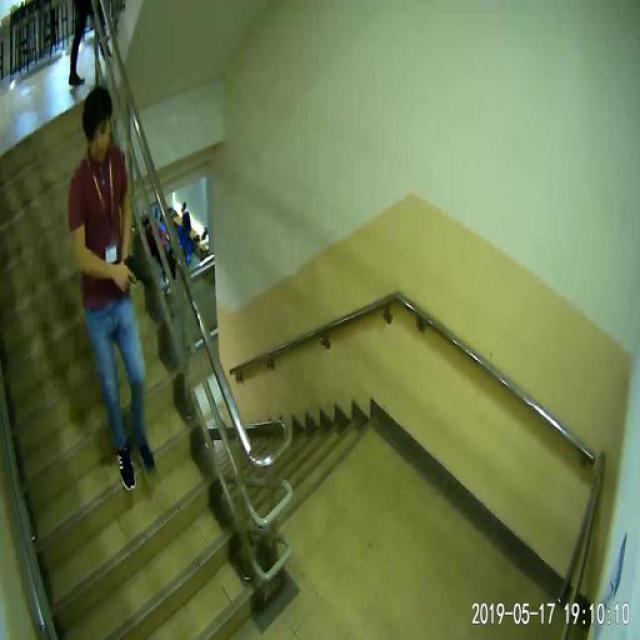gun: (120, 255, 150, 289)
